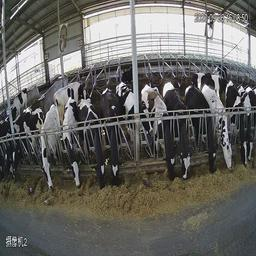cow: (141, 82, 175, 204), (164, 75, 196, 182), (57, 91, 86, 209), (99, 79, 129, 188), (186, 81, 221, 174), (78, 94, 108, 194), (203, 85, 235, 178), (117, 75, 152, 155), (5, 105, 32, 194), (227, 81, 251, 170), (39, 96, 59, 198), (58, 73, 95, 102), (10, 80, 27, 112)
